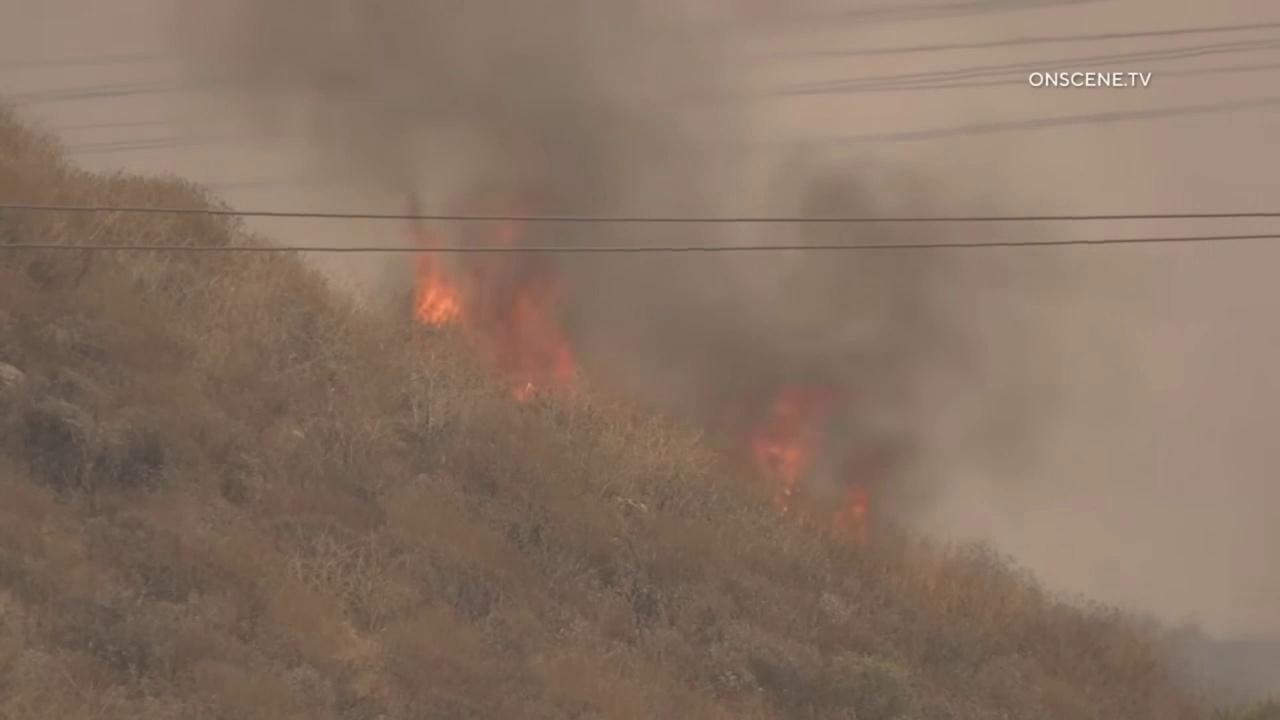fire: (411, 213, 578, 402), (747, 382, 868, 548)
smoke: (0, 0, 1280, 720)
